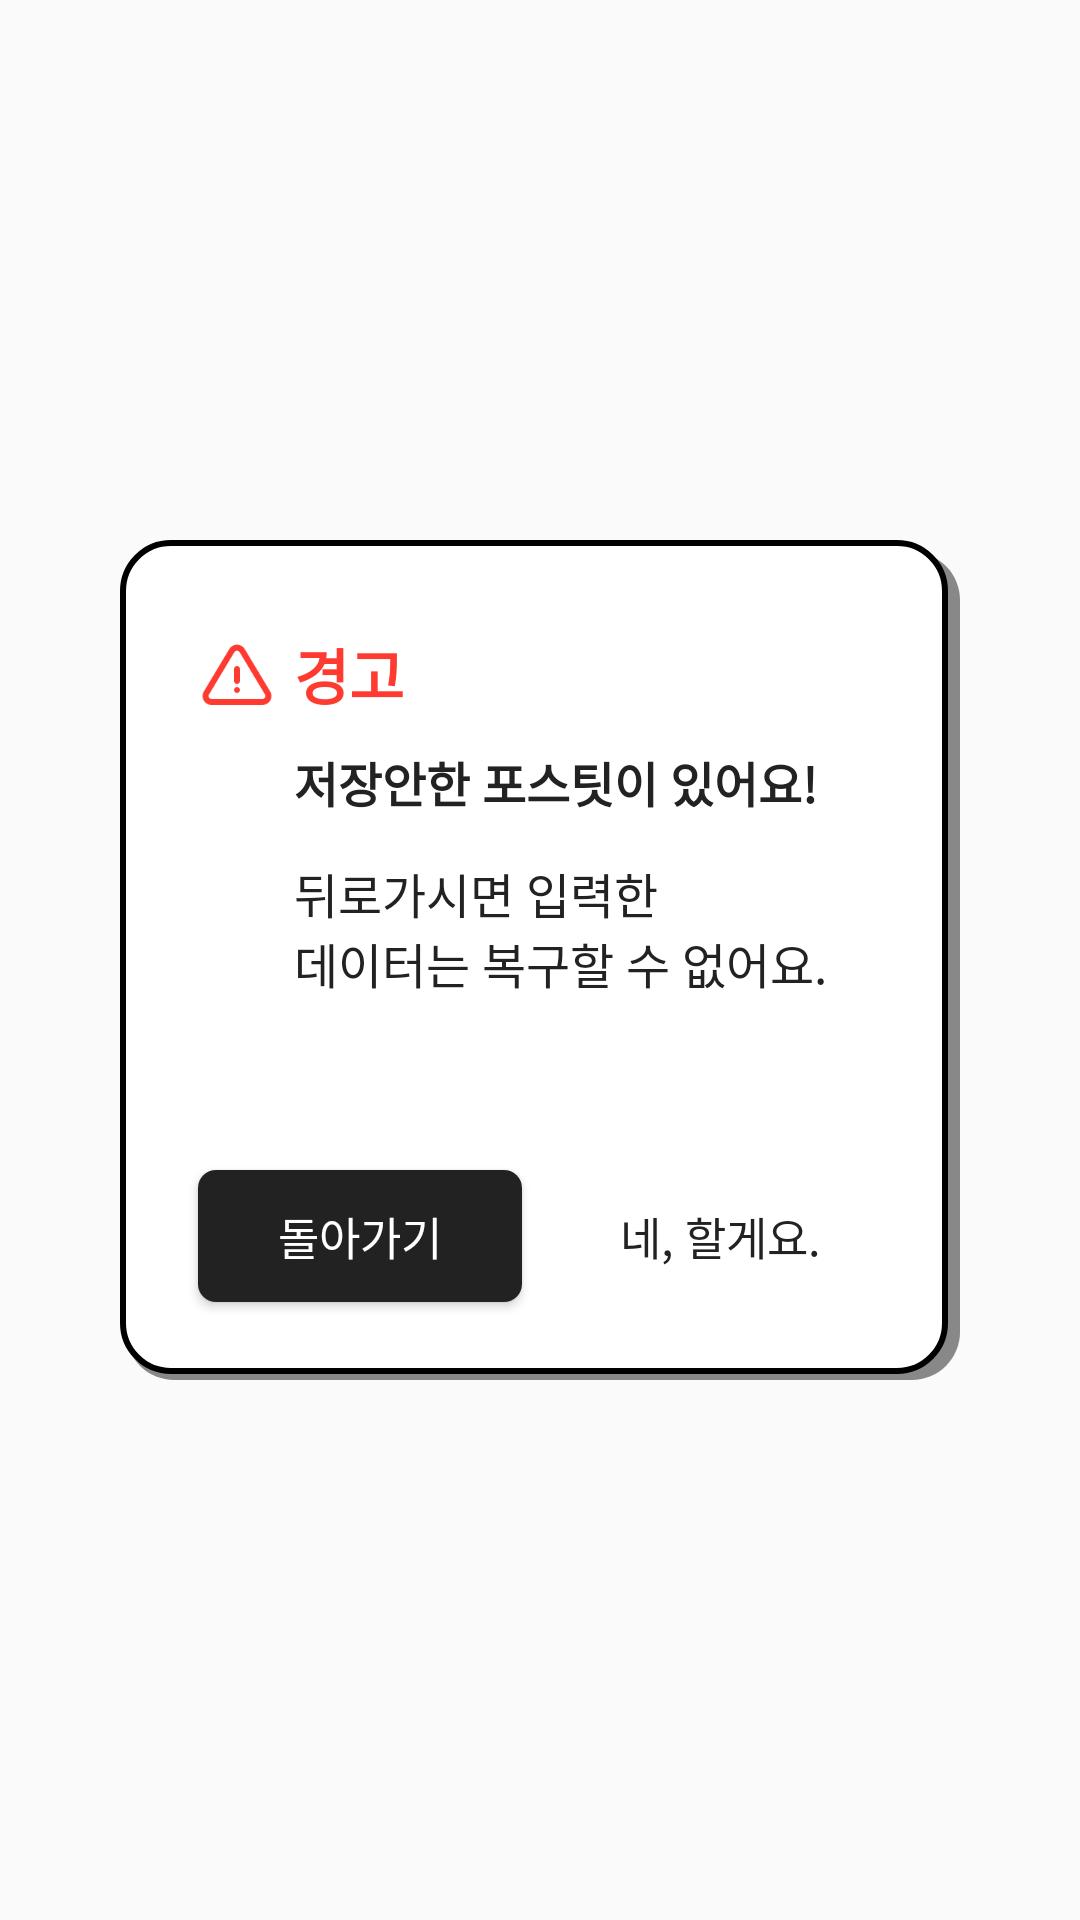

Named icons in this screenshot (1080w x 1920h) and their bounding boxes, box=[x1, y1, x2, y2]:
popup caution: box=[202, 644, 272, 705]
